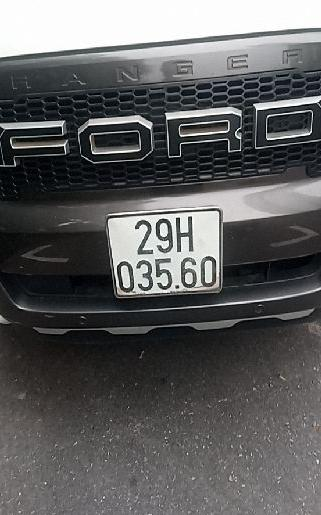Plate-iWeP: (108, 205, 226, 299)
